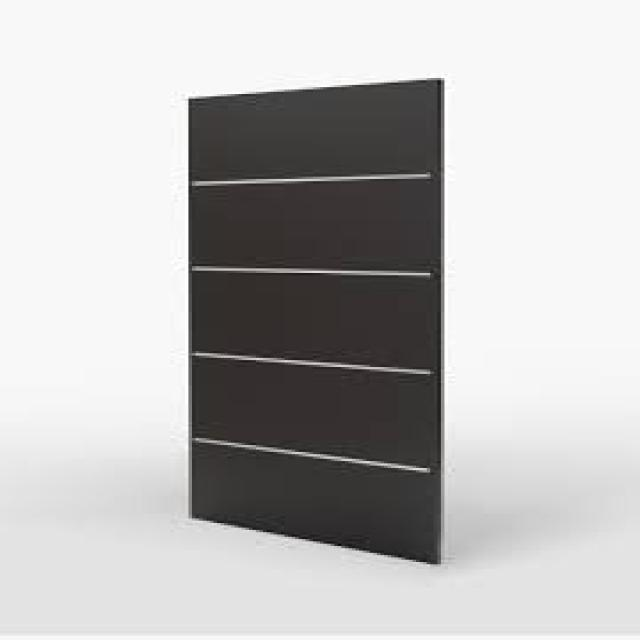door: (187, 77, 446, 565)
